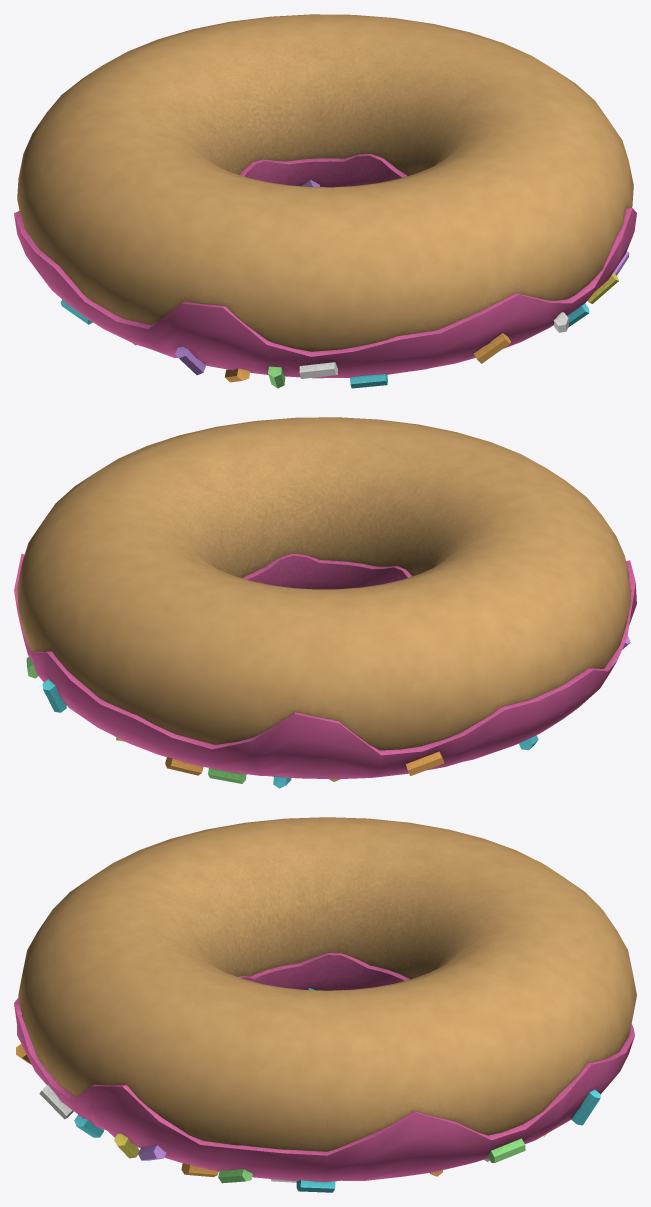
File: Boomerang_66.fbx
3 views of the same model, one above another, from view 1: azimuth 30°, elevation 25°; view 2: azimuth 150°, elevation 25°; view 3: azimuth 270°, elevation 25° (orthographic).
Parts seen in each view (by area): view 1: Boomerang_66; view 2: Boomerang_66; view 3: Boomerang_66.
Part boxes in pixels (box(x1,y1,x2,y2)): Boomerang_66: box(14, 14, 636, 388); Boomerang_66: box(14, 417, 636, 788); Boomerang_66: box(14, 817, 636, 1192).
Size of the model in its own units: 196 by 62.19 by 196.
Materials: 1 (1 with a texture image).
